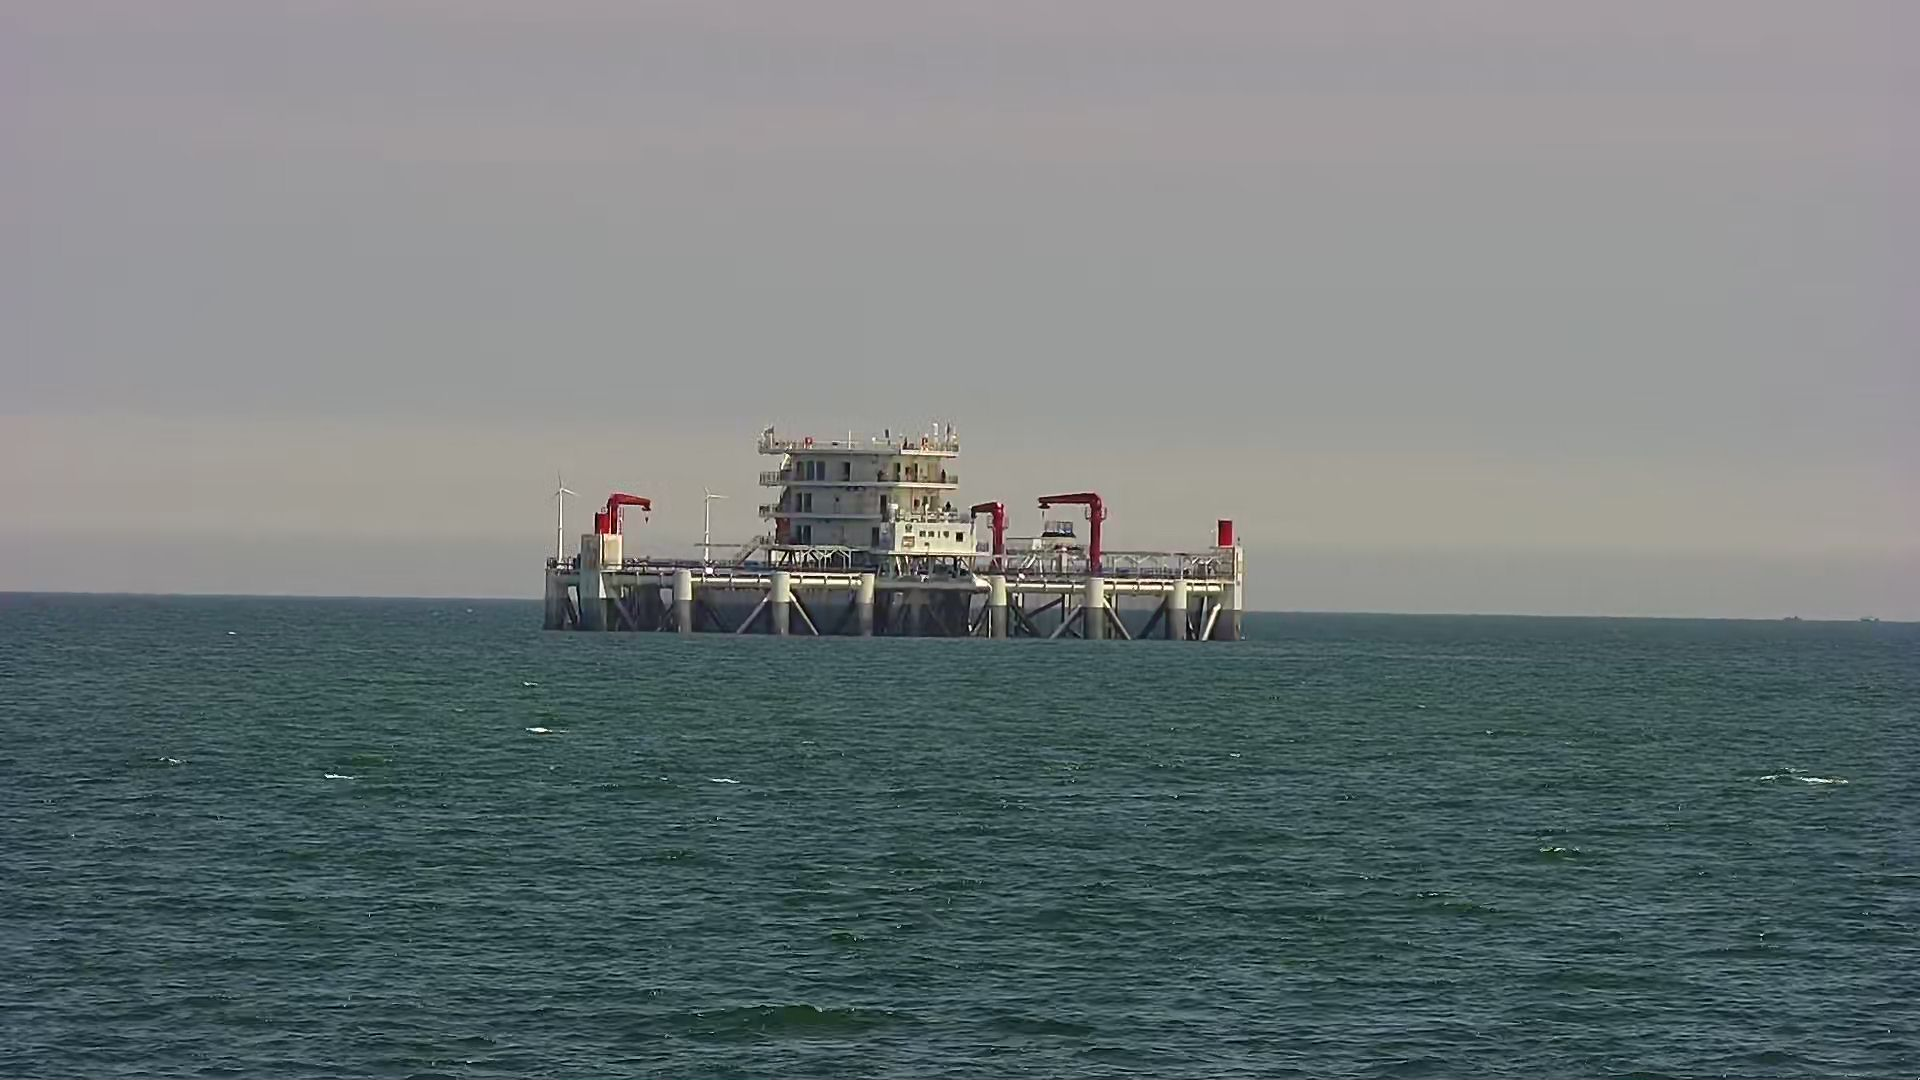platform: (508, 423, 1269, 651)
